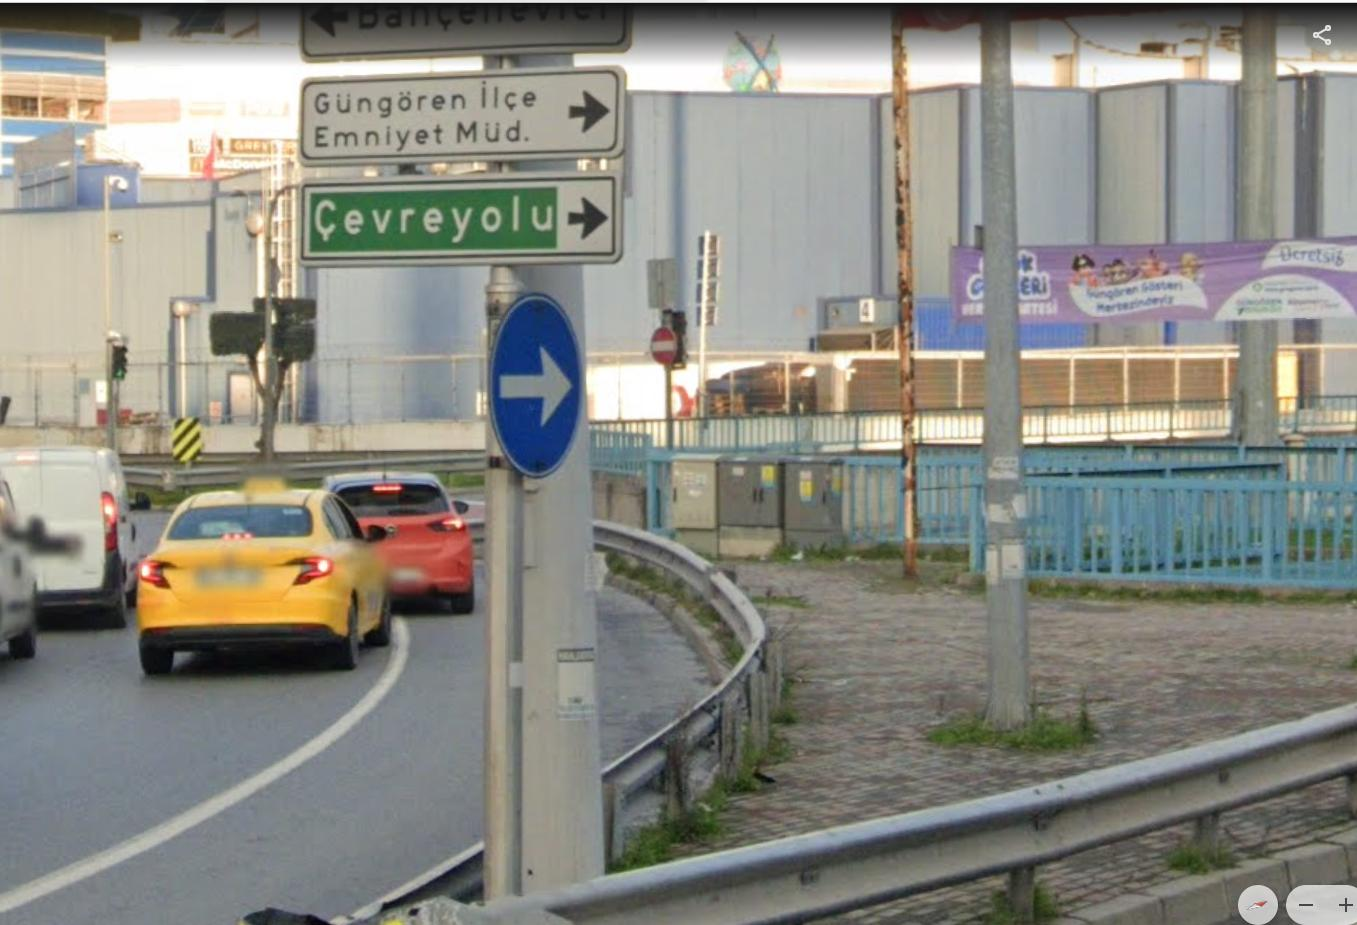turnleft: (491, 296, 586, 468)
